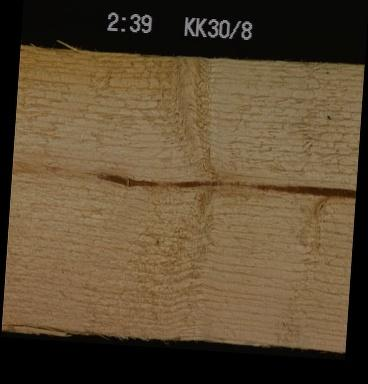split: (58, 169, 353, 191), (0, 319, 72, 330)
